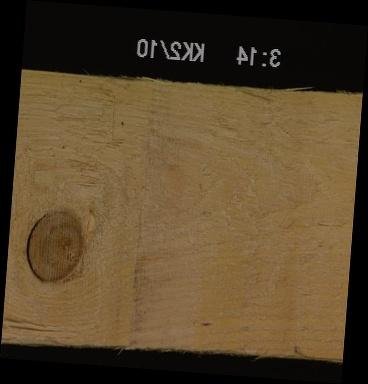dry_knot: (23, 207, 83, 282)
split: (5, 317, 78, 333)
